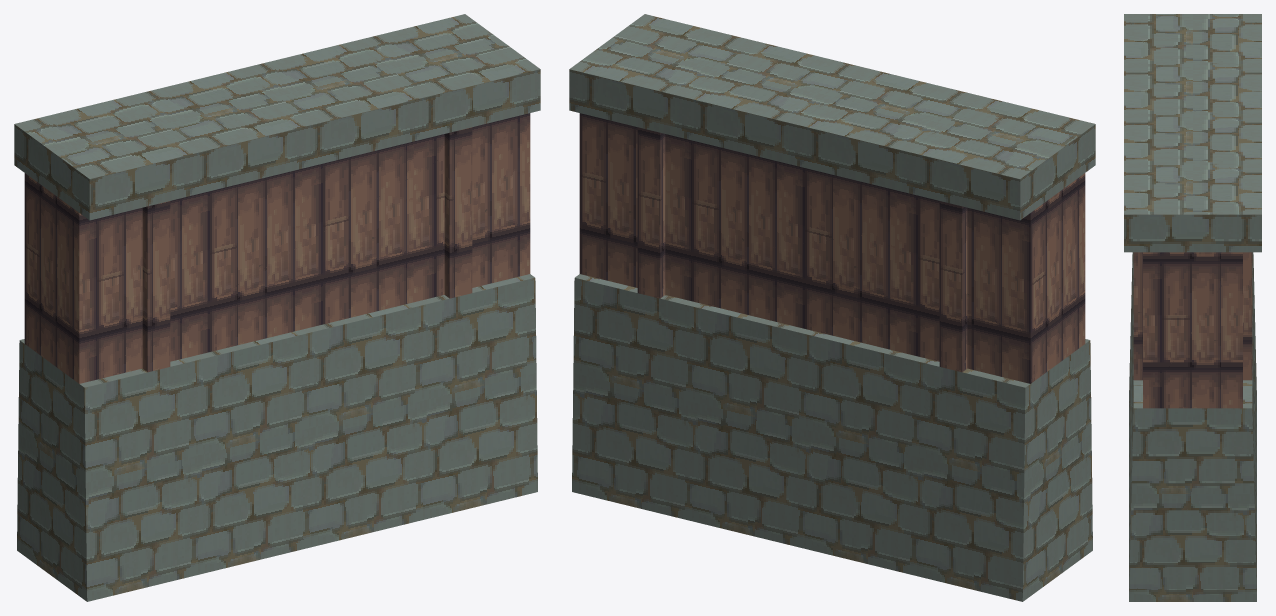
The model's file is wall_segment.glb.
3 renders of one model, left to right at view 1: azimuth 30°, elevation 25°; view 2: azimuth 150°, elevation 25°; view 3: azimuth 270°, elevation 25°, orthographic. The views are drawn at different scales.
Parts seen in each view (by area): view 1: wall_segment; view 2: wall_segment; view 3: wall_segment.
Part boxes in pixels (x1=…): wall_segment: x1=14, y1=14, x2=540, y2=601; wall_segment: x1=569, y1=14, x2=1095, y2=601; wall_segment: x1=1124, y1=14, x2=1261, y2=601.
Bounding box in the file's own units: 4 × 3.6 × 1.16.
2 materials, 2 textured.
